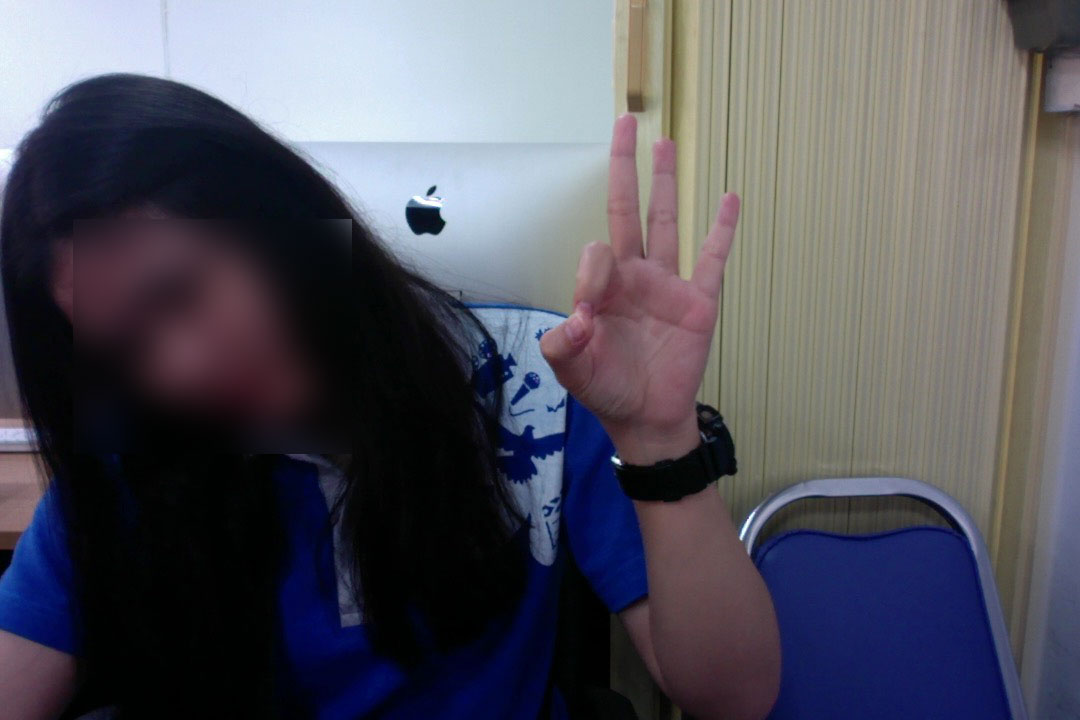for: (527, 95, 763, 489)
